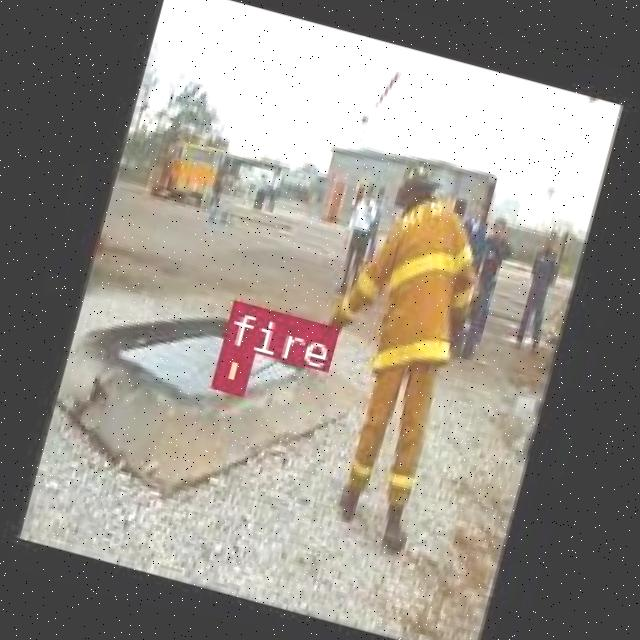fire: (210, 342, 250, 392)
